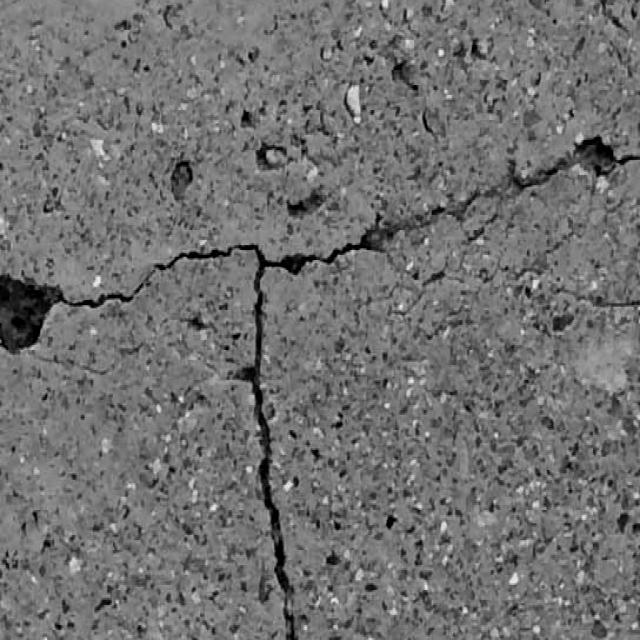SurfaceCrack: (129, 22, 579, 640)
